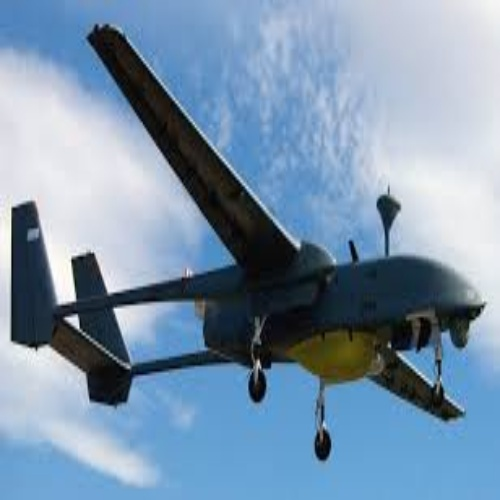uav556: (14, 25, 486, 463)
